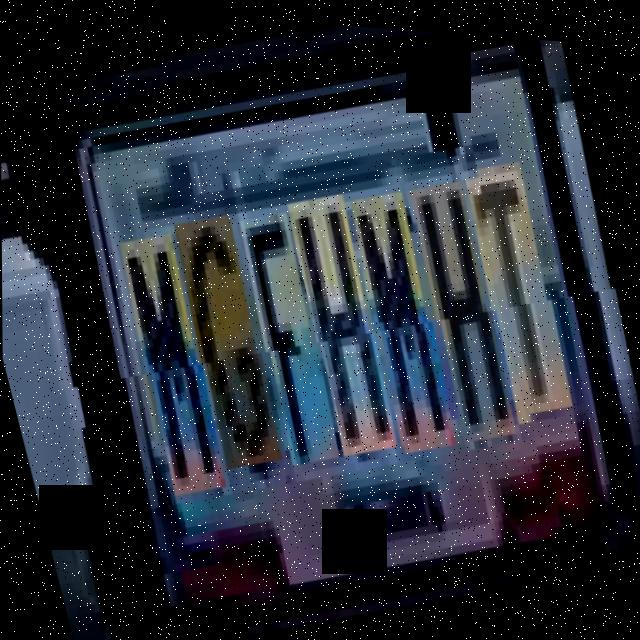F: (236, 204, 354, 463)
G: (169, 206, 296, 468)
H: (284, 183, 414, 454), (406, 169, 530, 438)
M: (345, 181, 470, 451), (115, 227, 240, 496)
T: (462, 157, 588, 420)
